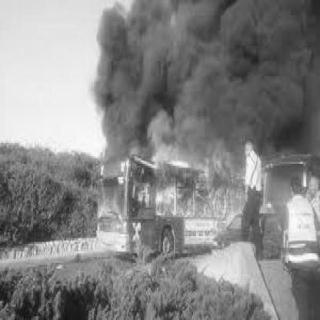Fire: (136, 139, 247, 220)
Smoke: (94, 1, 314, 139)
